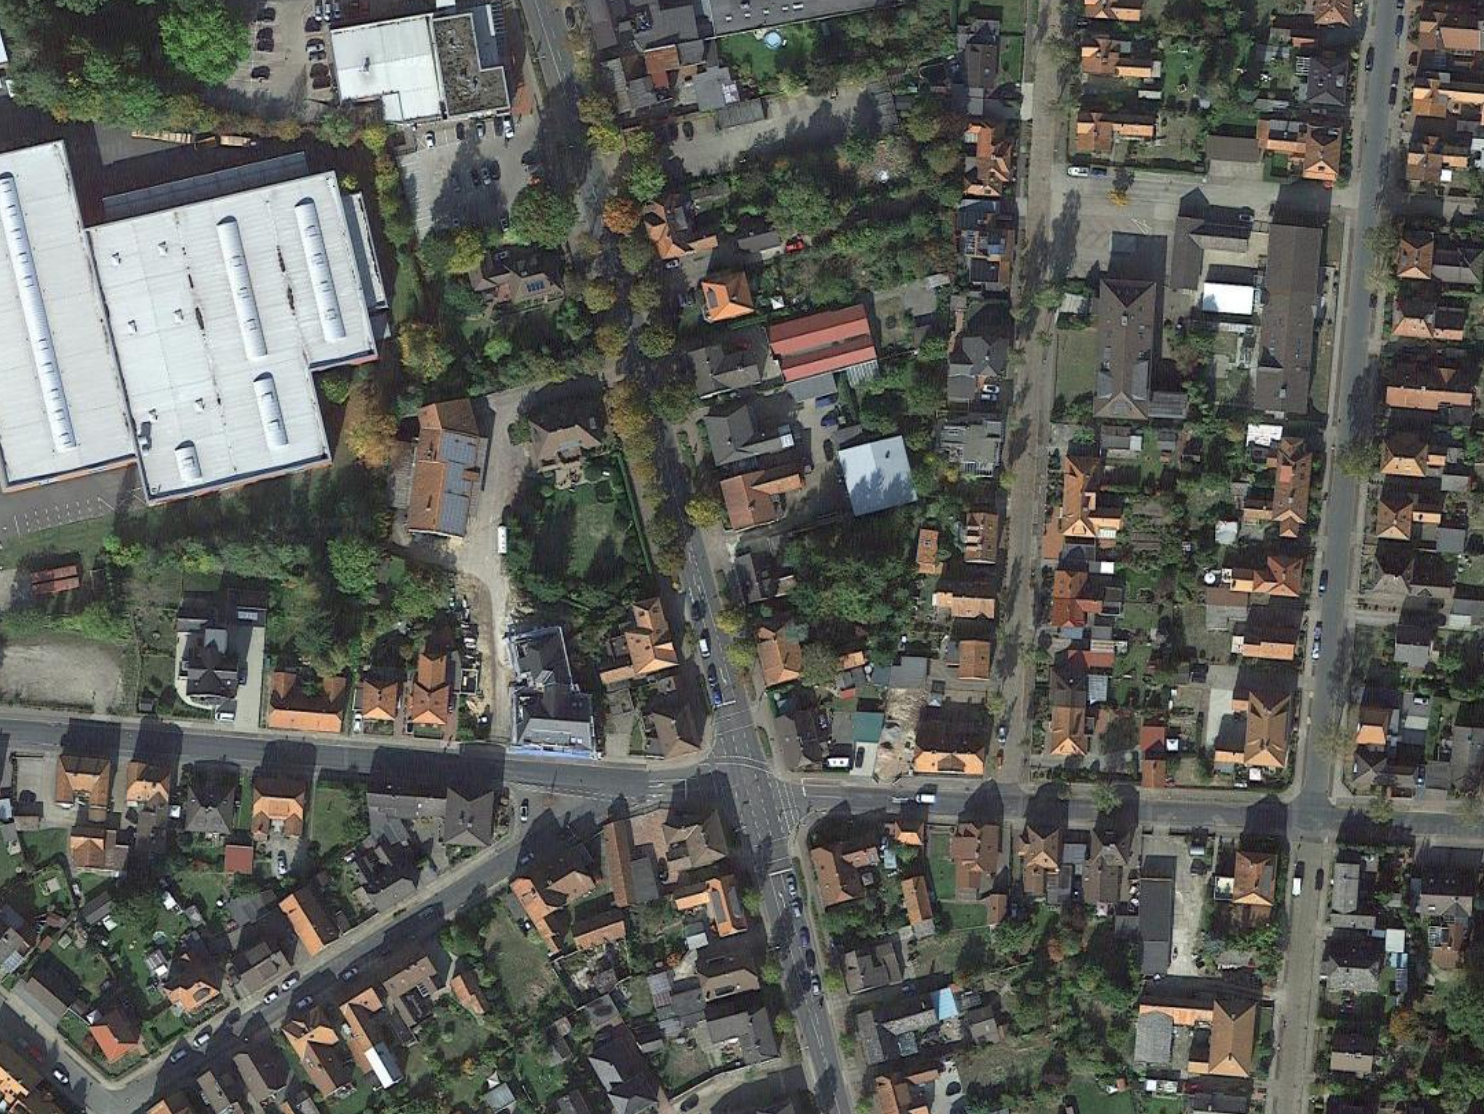car: (1318, 570, 1330, 594), (350, 711, 362, 735), (699, 638, 712, 658), (193, 1033, 209, 1048), (281, 977, 298, 991), (712, 685, 723, 704), (215, 711, 235, 723), (296, 996, 312, 1010), (786, 241, 804, 254), (343, 968, 358, 981), (786, 876, 796, 896), (915, 795, 935, 804), (806, 948, 815, 970), (263, 992, 277, 1005), (1312, 641, 1321, 660), (811, 977, 820, 996), (801, 927, 809, 948), (424, 135, 435, 149), (791, 901, 801, 919), (323, 4, 331, 23), (476, 121, 485, 139), (1413, 696, 1429, 706), (998, 727, 1006, 743), (996, 756, 1004, 772), (279, 857, 286, 874)
